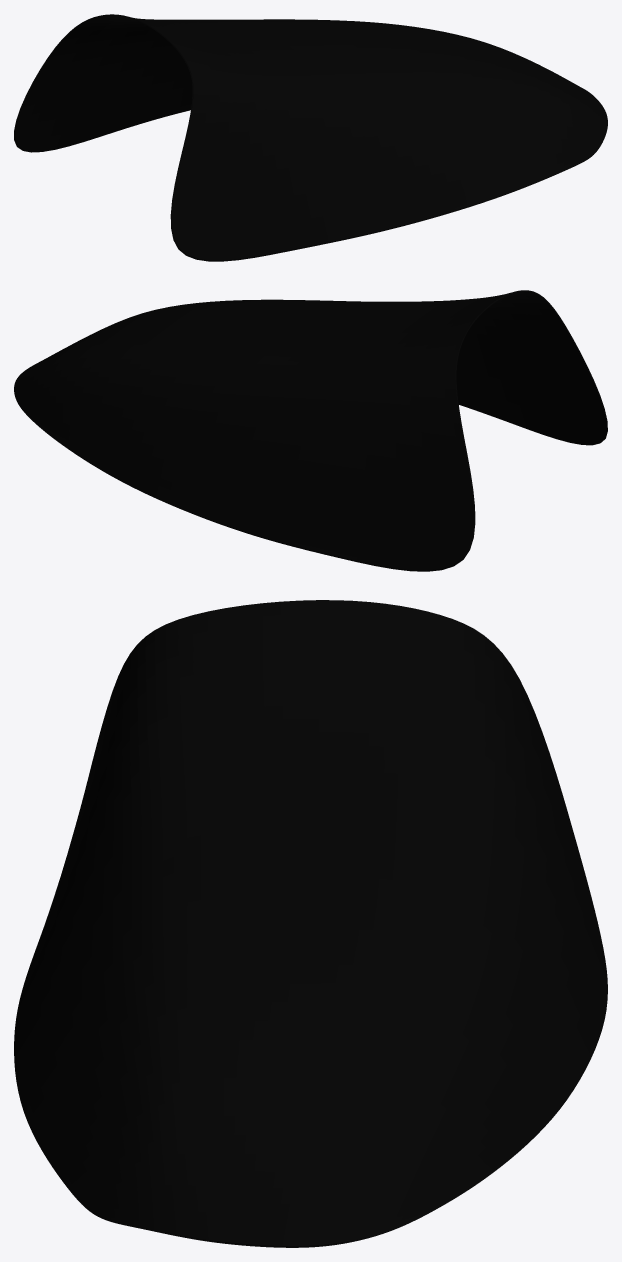
The model's file is frontLeftBlack.obj.
3 renders of one model, top to bottom at view 1: azimuth 30°, elevation 25°; view 2: azimuth 150°, elevation 25°; view 3: azimuth 270°, elevation 25°, orthographic. The views are drawn at different scales.
Visible parts, largest first — view 1: Plane; view 2: Plane; view 3: Plane.
Part boxes in pixels (<box>): Plane: <box>14,14,607,261</box>; Plane: <box>14,290,607,571</box>; Plane: <box>14,600,607,1247</box>.
Bounding box in the file's own units: 14.79 × 5.18 × 9.
1 material, 1 textured.
